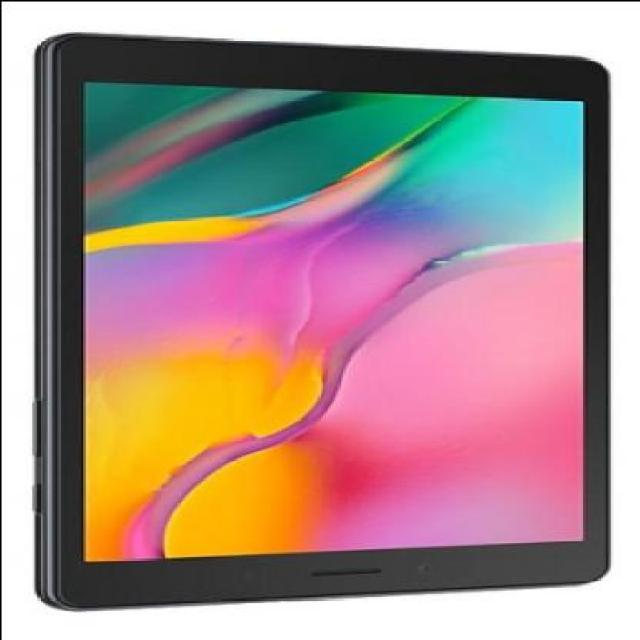tablet: (11, 17, 640, 634)
